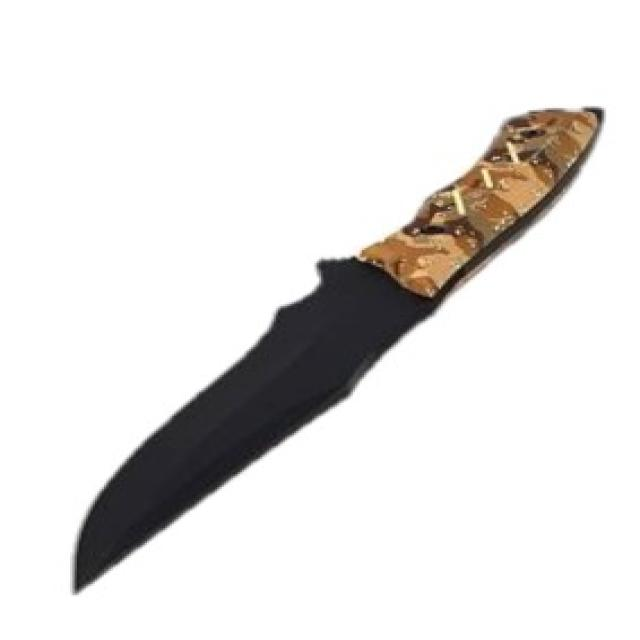knife: (55, 96, 607, 597)
